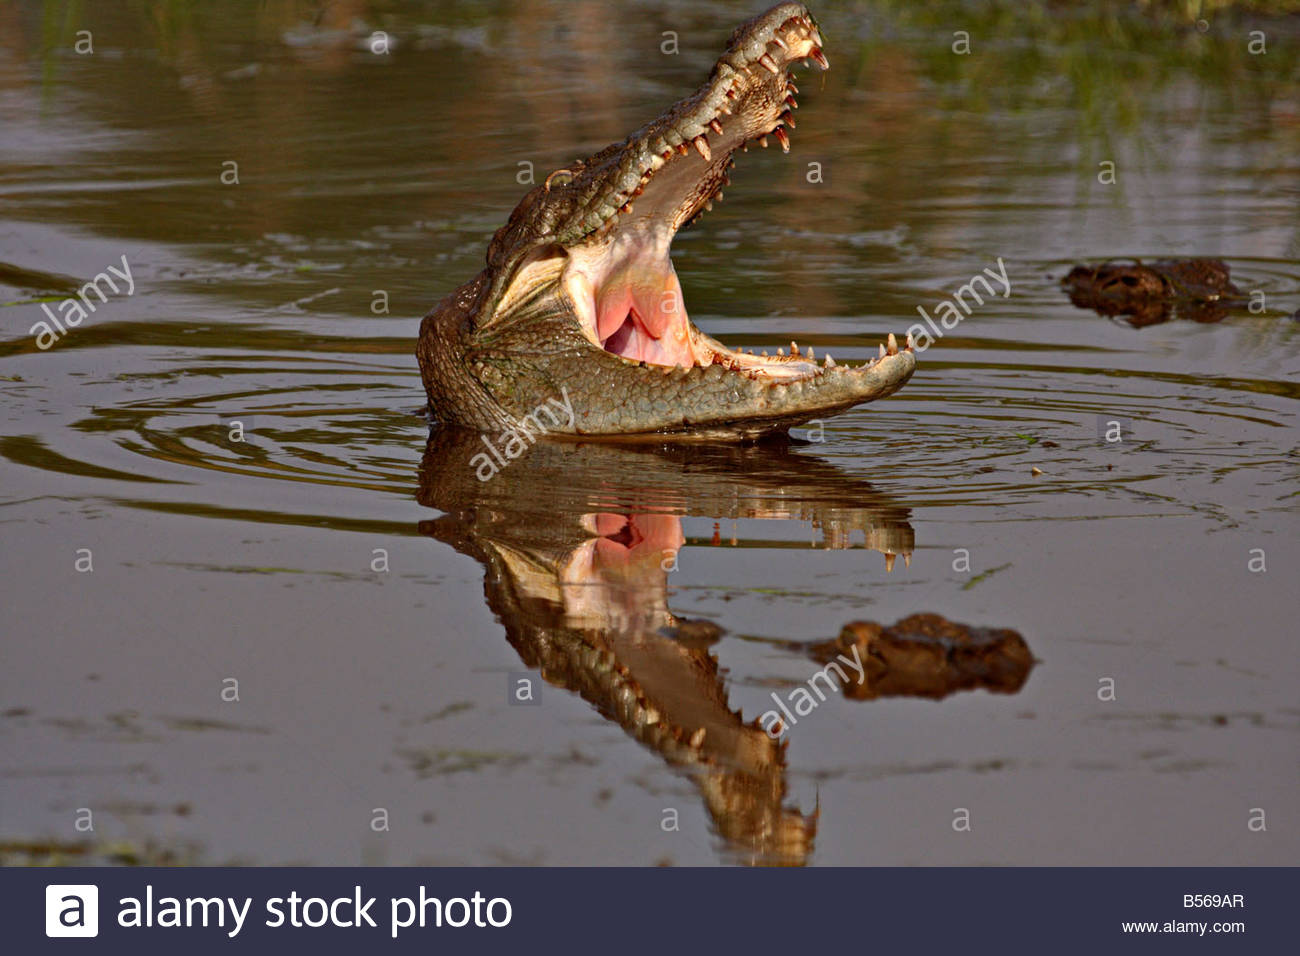Crocodile: (408, 1, 931, 462)
